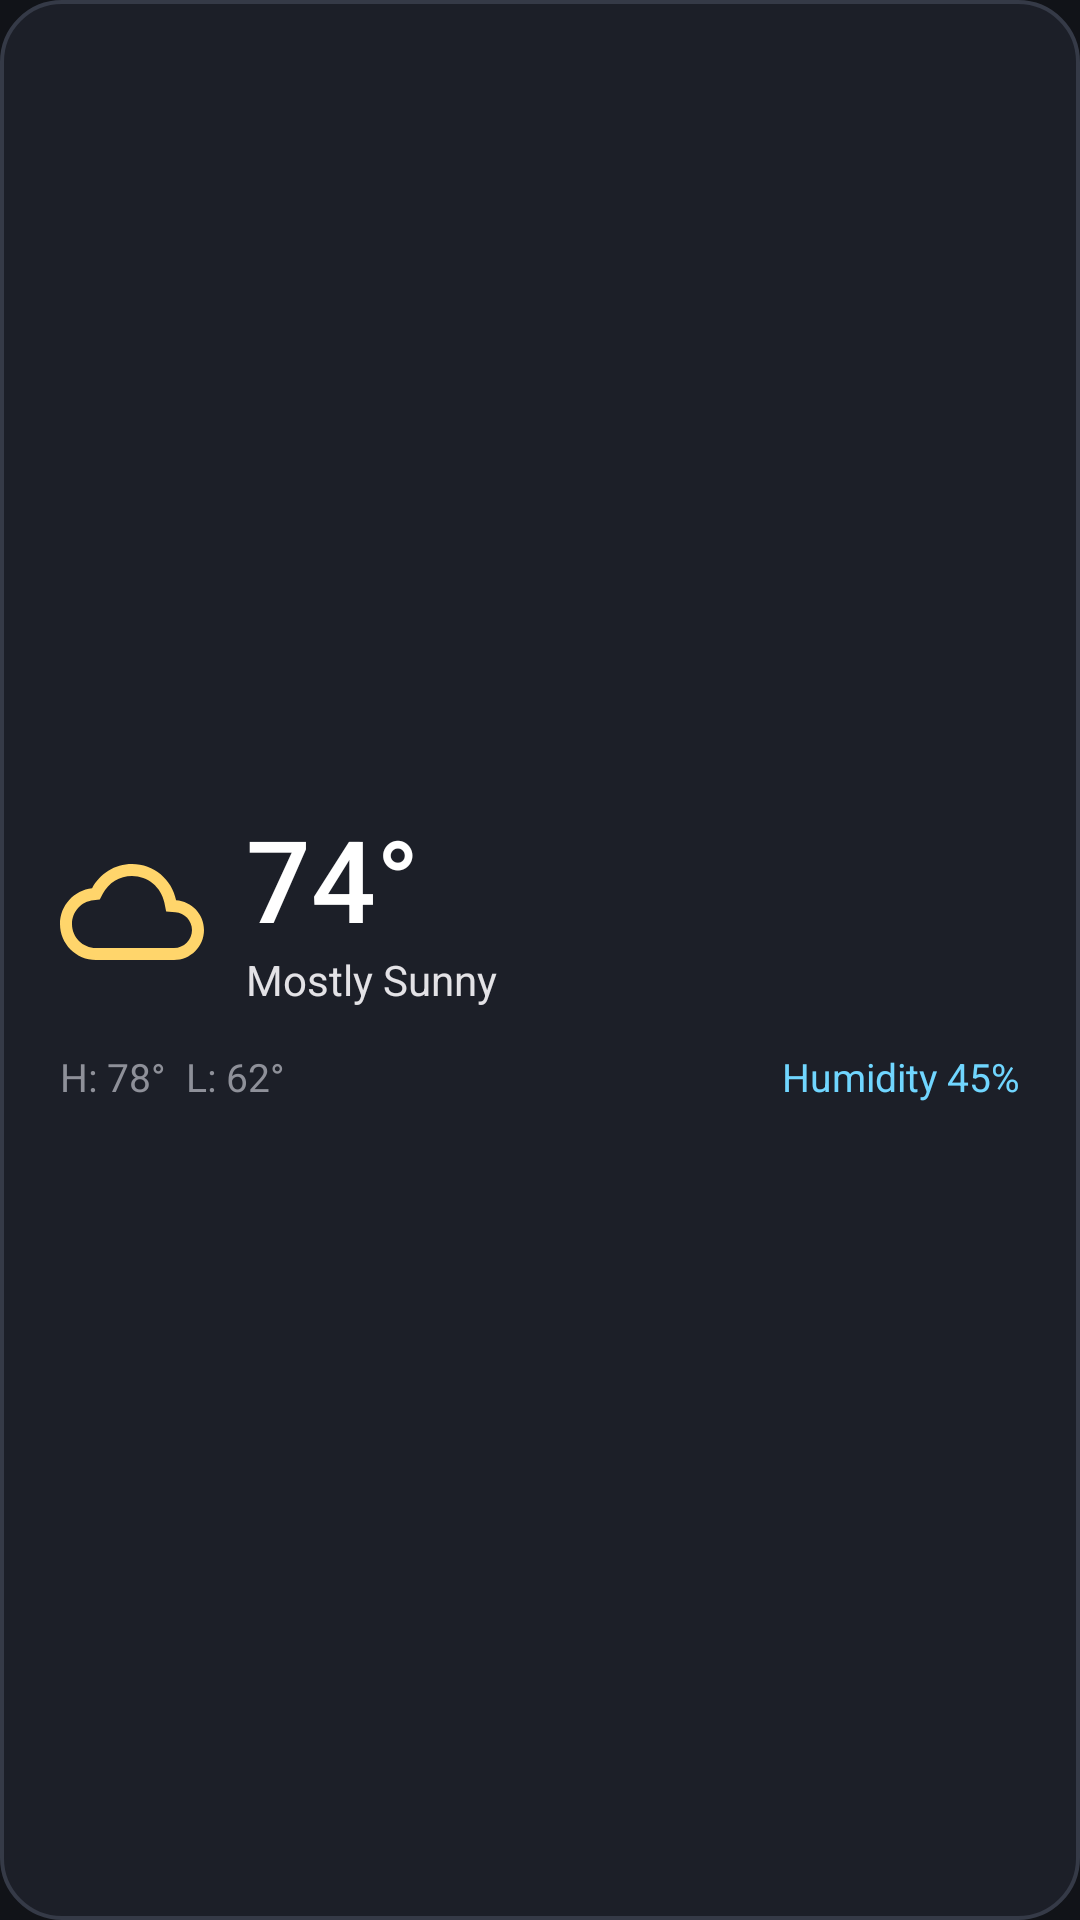

Where to tap for icons on this 1080 x 1920 app screen, as point (x, y):
weather: point (132, 912)
